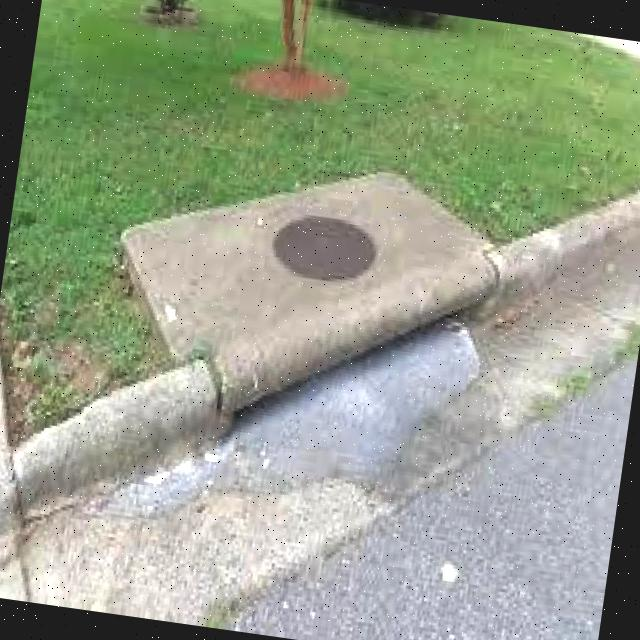curb: (1, 282, 319, 579), (330, 226, 490, 418), (497, 153, 640, 334)
